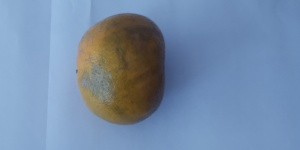BAD: (76, 11, 166, 125)
